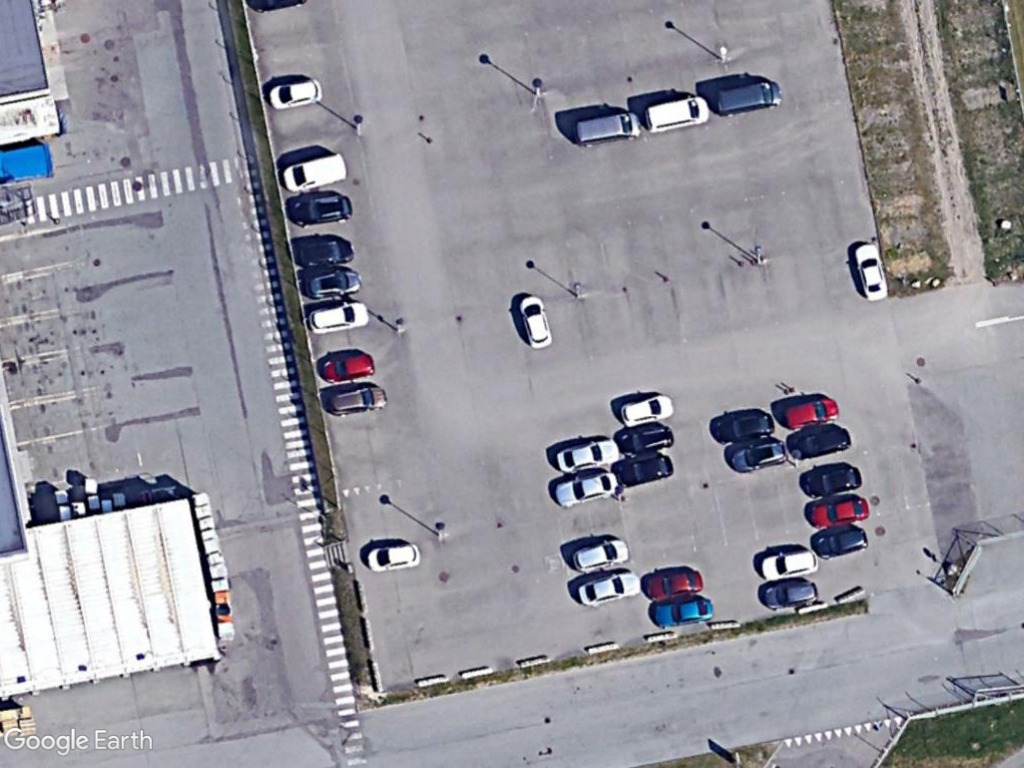car: (552, 466, 622, 513), (284, 187, 357, 230), (785, 418, 853, 464), (573, 565, 644, 608), (568, 532, 635, 576), (803, 490, 873, 532), (552, 433, 625, 473), (807, 519, 872, 562), (323, 379, 392, 418), (647, 592, 719, 629), (614, 389, 677, 431), (306, 297, 372, 337), (797, 462, 868, 499), (851, 241, 892, 303), (727, 435, 789, 476), (710, 404, 778, 441), (758, 574, 823, 612), (303, 265, 366, 304), (757, 546, 823, 582), (641, 568, 707, 603), (517, 294, 556, 353), (362, 539, 424, 576), (294, 236, 359, 271), (780, 395, 843, 431), (267, 76, 326, 113), (317, 350, 378, 384)
van: (279, 148, 353, 196), (712, 77, 785, 119), (569, 107, 645, 147), (645, 89, 714, 133)
